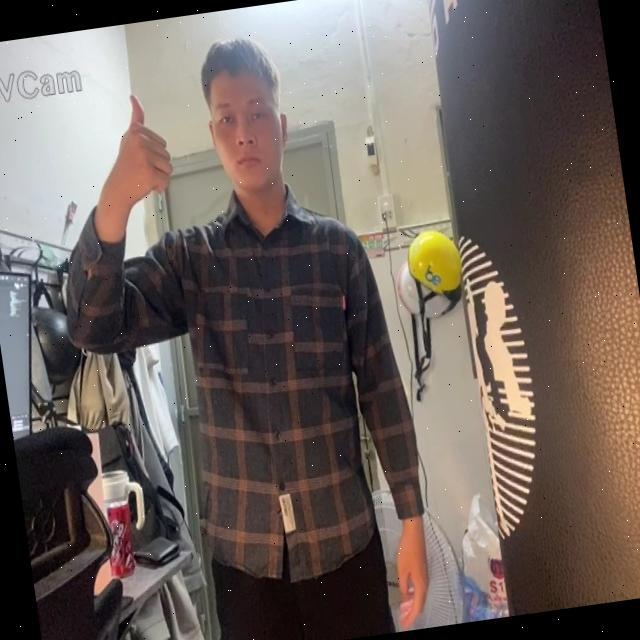u: (68, 186, 422, 580)
